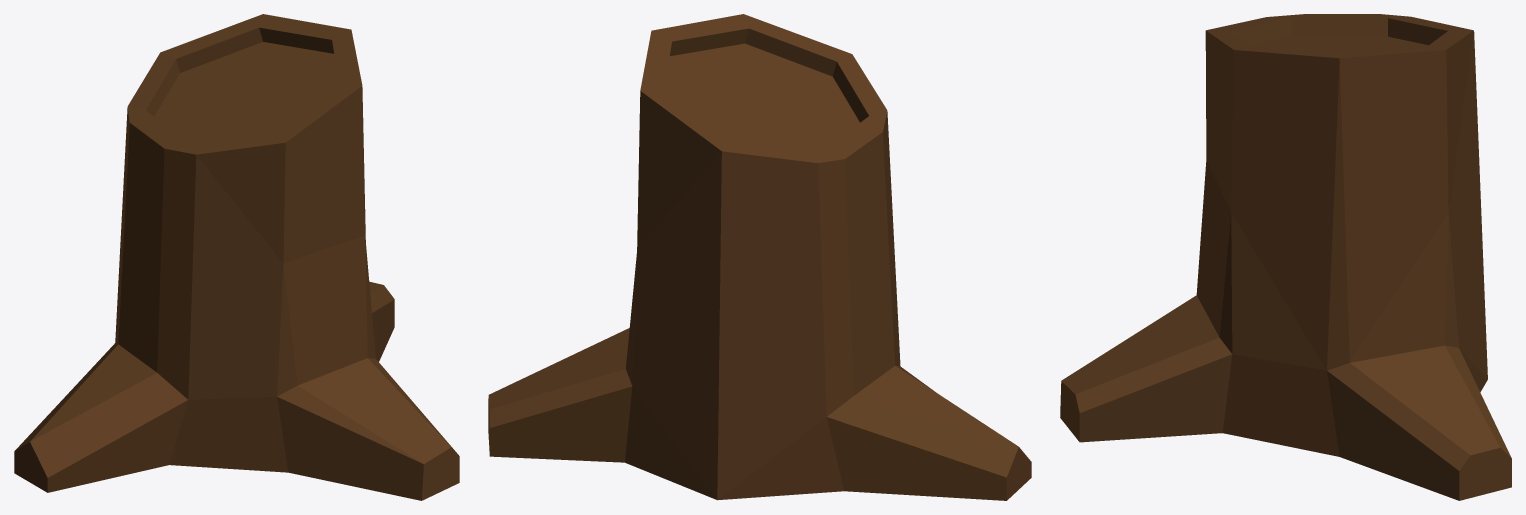
File: tree_12.glb
3 views of the same model, side by side, from view 1: azimuth 30°, elevation 25°; view 2: azimuth 150°, elevation 25°; view 3: azimuth 270°, elevation 25° (orthographic). The views are drawn at different scales.
Visible parts, largest first — view 1: _12_tree; view 2: _12_tree; view 3: _12_tree.
Boxes of the visible parts, <box> form: _12_tree: <box>14,14,459,500</box>; _12_tree: <box>488,14,1031,500</box>; _12_tree: <box>1060,14,1511,500</box>.
Bounding box in the file's own units: 0.4567 × 0.3631 × 0.3804.
